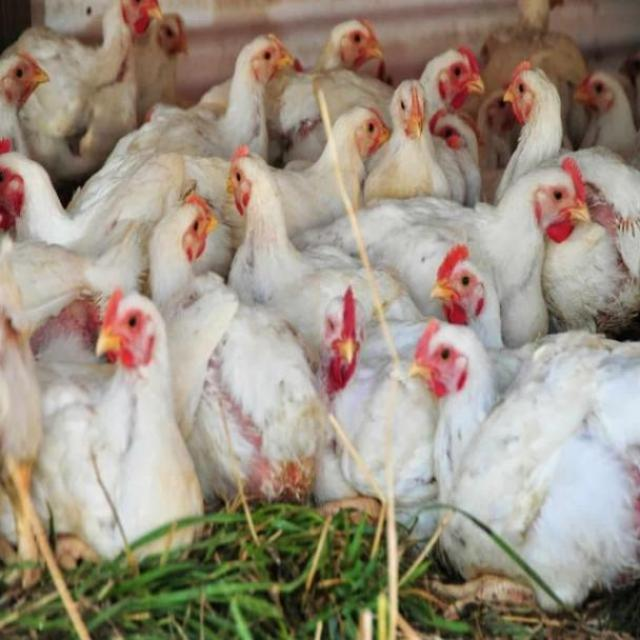Chicken: (91, 279, 166, 384), (307, 284, 374, 380), (411, 332, 488, 408), (427, 246, 499, 326), (531, 163, 596, 250), (155, 194, 221, 272), (226, 151, 286, 232), (501, 76, 568, 141), (331, 9, 385, 74), (438, 50, 485, 121), (572, 66, 623, 120), (389, 79, 427, 143), (246, 41, 287, 95), (161, 0, 193, 68), (1, 52, 42, 104), (114, 0, 161, 45)
